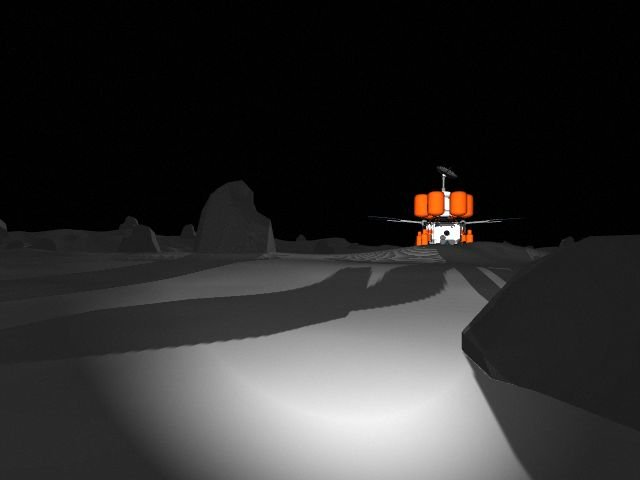homebase: (364, 163, 515, 257)
